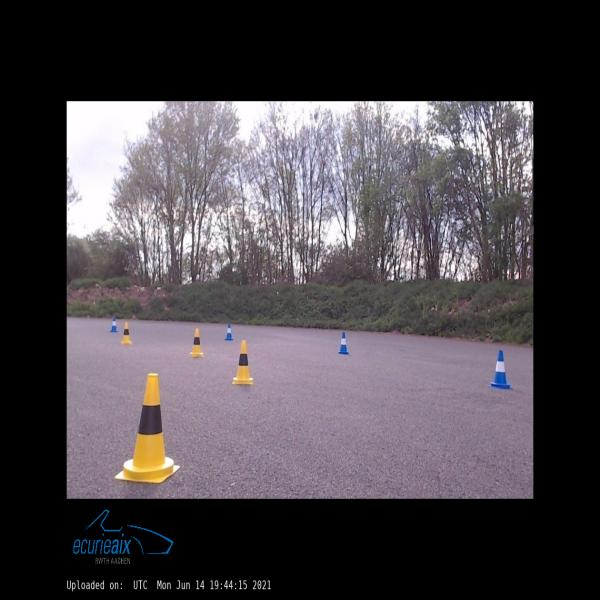blue_cone: (489, 351, 512, 390), (338, 332, 349, 354), (225, 323, 233, 340), (110, 317, 118, 331)
yellow_cone: (115, 374, 180, 483), (232, 340, 254, 384), (189, 329, 204, 356), (121, 323, 131, 344)
